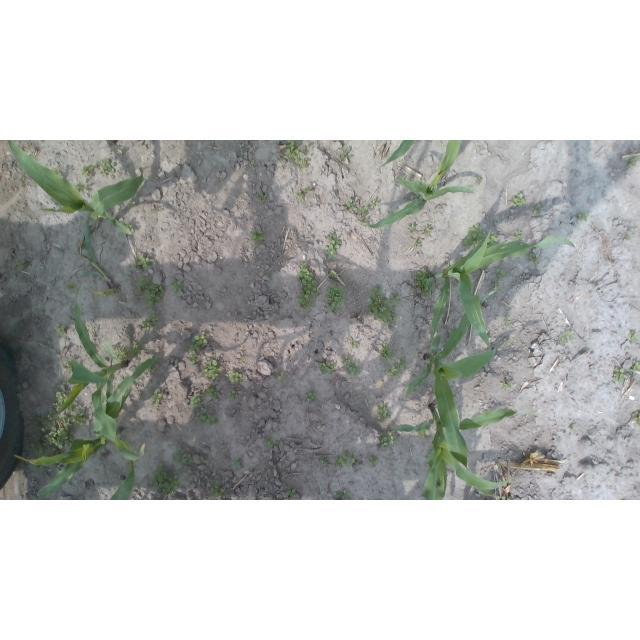Maize: (16, 355, 159, 500), (405, 292, 496, 500), (426, 229, 575, 343), (59, 287, 148, 462), (8, 141, 143, 236), (389, 401, 517, 500), (366, 141, 474, 228), (75, 212, 118, 296), (378, 140, 417, 168), (110, 460, 135, 501)
Weeds: (29, 391, 91, 457), (367, 285, 398, 326), (295, 262, 321, 309), (152, 463, 180, 495), (136, 278, 165, 308), (283, 141, 310, 168), (413, 268, 436, 298), (463, 222, 485, 250), (186, 331, 208, 355), (326, 284, 344, 312), (335, 451, 361, 469), (324, 233, 341, 260), (194, 408, 218, 426), (201, 360, 222, 380), (343, 356, 361, 376), (95, 157, 115, 175), (173, 447, 192, 465), (142, 313, 159, 332), (378, 432, 396, 449), (380, 344, 396, 361), (318, 360, 335, 376), (377, 403, 392, 421), (210, 480, 225, 496), (251, 229, 266, 244), (81, 165, 96, 180), (73, 180, 89, 194), (613, 368, 627, 384), (512, 193, 527, 207), (135, 256, 149, 271), (625, 154, 639, 169), (190, 394, 203, 409), (170, 280, 184, 293), (151, 387, 161, 405), (51, 167, 66, 179), (129, 342, 142, 355), (55, 324, 68, 337), (122, 220, 135, 233), (559, 331, 573, 343), (264, 436, 278, 448), (207, 388, 221, 400), (228, 371, 242, 383), (116, 347, 128, 360), (368, 456, 381, 468), (500, 376, 512, 389), (396, 356, 408, 369), (487, 233, 499, 245), (286, 488, 297, 501), (491, 282, 504, 293), (354, 206, 368, 216), (336, 492, 351, 501), (340, 148, 352, 159), (389, 367, 400, 379), (529, 254, 540, 266), (532, 204, 542, 216), (495, 268, 507, 278), (31, 465, 48, 472), (64, 360, 73, 373), (346, 200, 356, 211), (235, 459, 246, 469), (512, 230, 522, 241), (228, 390, 239, 400), (418, 429, 430, 438), (631, 361, 640, 373), (17, 176, 25, 189), (257, 191, 267, 201), (630, 332, 639, 343), (307, 392, 318, 401), (578, 213, 589, 222), (320, 456, 328, 468), (188, 356, 198, 365), (392, 293, 400, 304), (370, 200, 379, 209), (148, 364, 157, 373), (424, 225, 432, 235), (408, 224, 416, 233), (16, 260, 24, 269), (128, 201, 136, 210), (278, 375, 288, 382), (635, 412, 640, 425), (64, 284, 72, 292), (296, 194, 304, 201), (319, 420, 326, 428), (476, 177, 483, 184), (353, 342, 360, 349), (505, 316, 511, 324), (200, 457, 208, 463), (415, 242, 422, 248), (398, 176, 406, 181), (332, 271, 337, 278), (627, 232, 634, 237), (303, 188, 309, 193), (571, 427, 576, 432), (502, 496, 507, 500), (0, 292, 4, 296), (542, 236, 546, 239)
